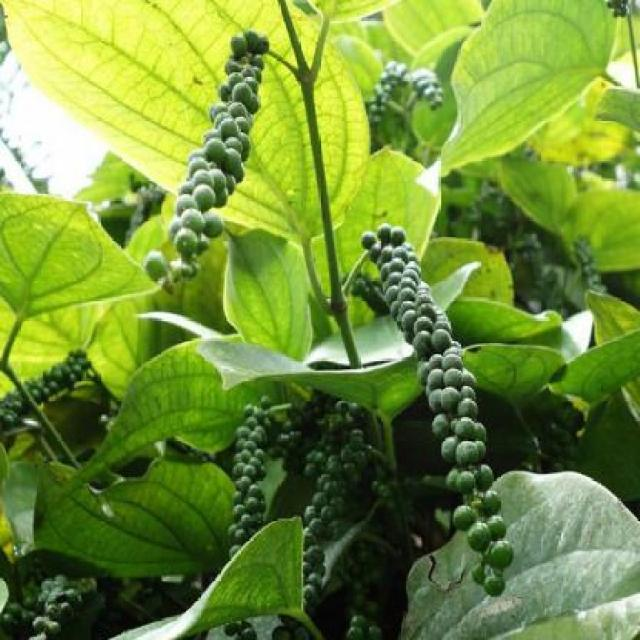UNRIPE: (346, 231, 517, 585), (176, 23, 262, 286), (213, 385, 279, 583), (291, 394, 338, 595), (9, 334, 89, 438), (366, 51, 443, 120)
